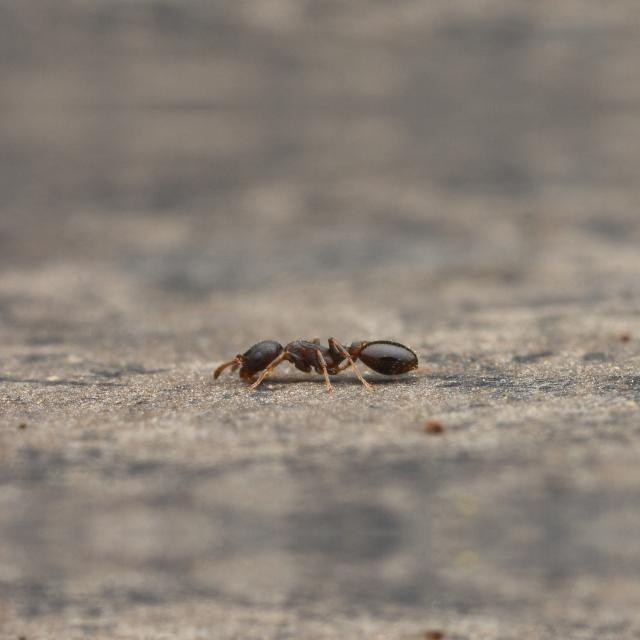Temnothorax: (204, 310, 441, 402)
